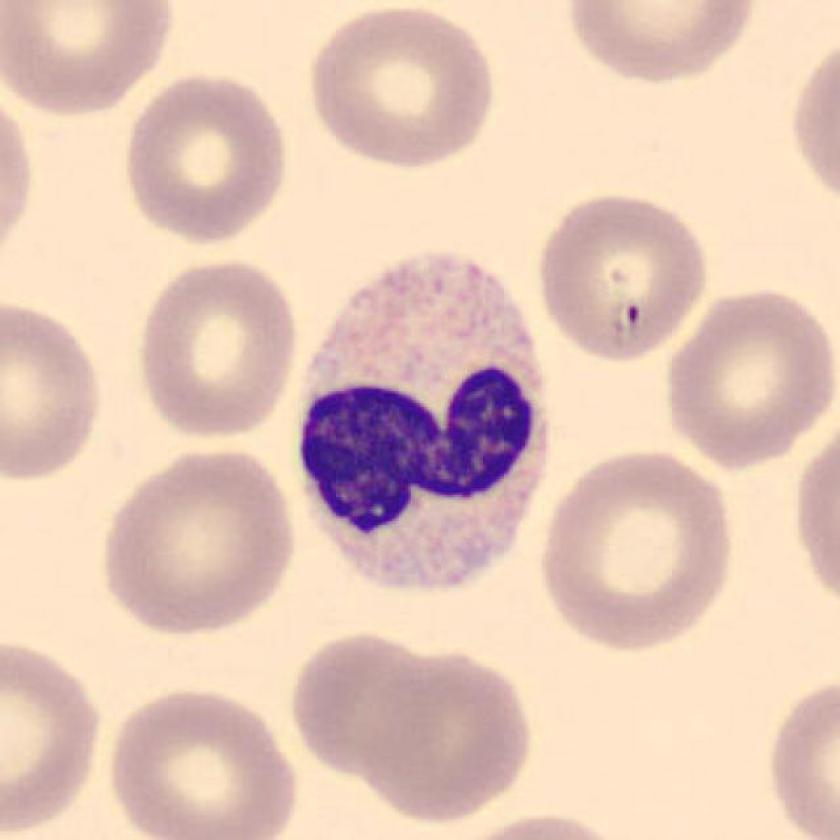neutrophil: (300, 256, 551, 589)
